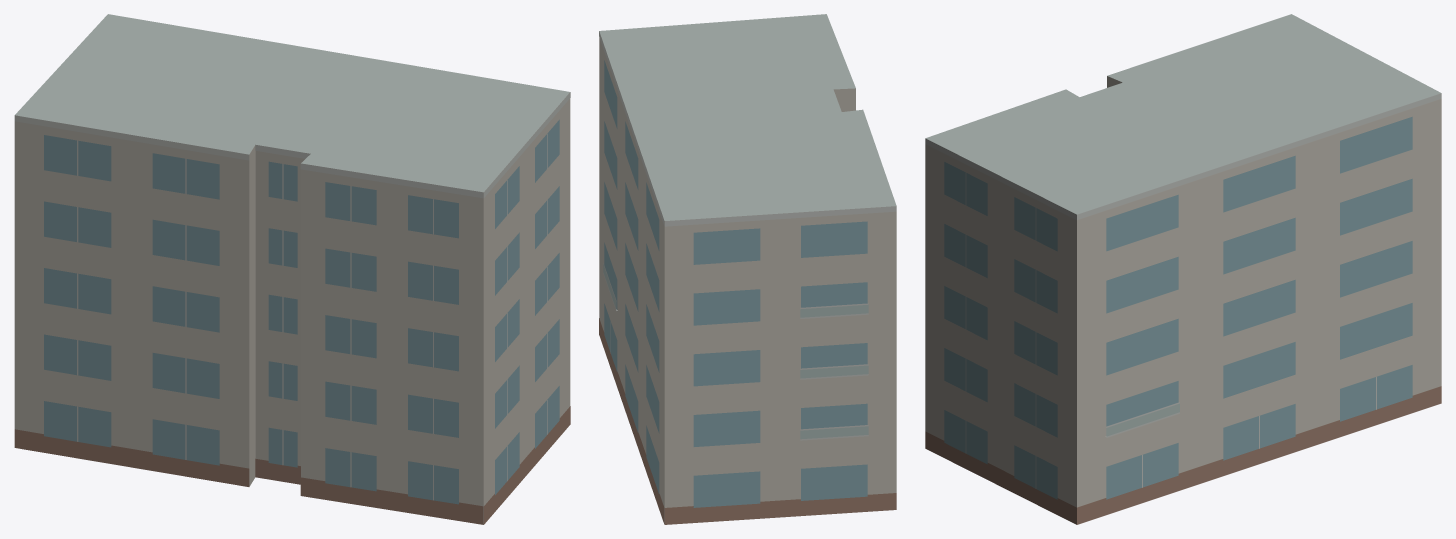
The model's file is survey-upis-33011766.glb.
3 views of the same model, side by side, from view 1: azimuth 30°, elevation 25°; view 2: azimuth 150°, elevation 25°; view 3: azimuth 270°, elevation 25° (orthographic). The views are drawn at different scales.
Visible parts, largest first — view 1: survey-upis-33011766.tmp; view 2: survey-upis-33011766.tmp; view 3: survey-upis-33011766.tmp.
Part boxes in pixels (x1,y1,x2,y2): survey-upis-33011766.tmp: (14,14,570,524); survey-upis-33011766.tmp: (599,14,896,524); survey-upis-33011766.tmp: (925,14,1441,524).
Bounding box in the file's own units: 18.59 × 13.4 × 20.22.
